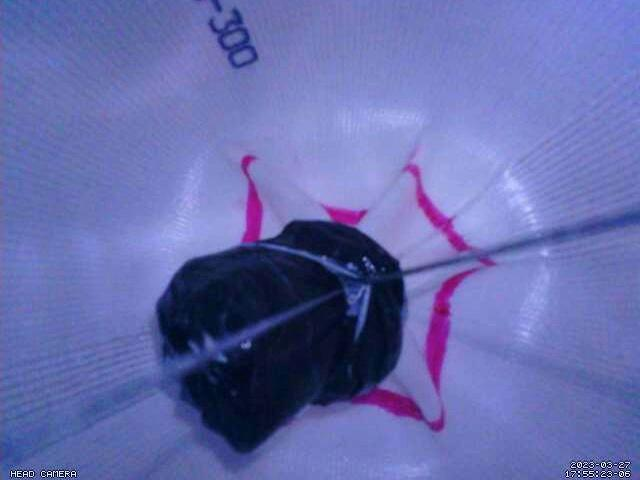red-circle: (240, 155, 496, 433)
